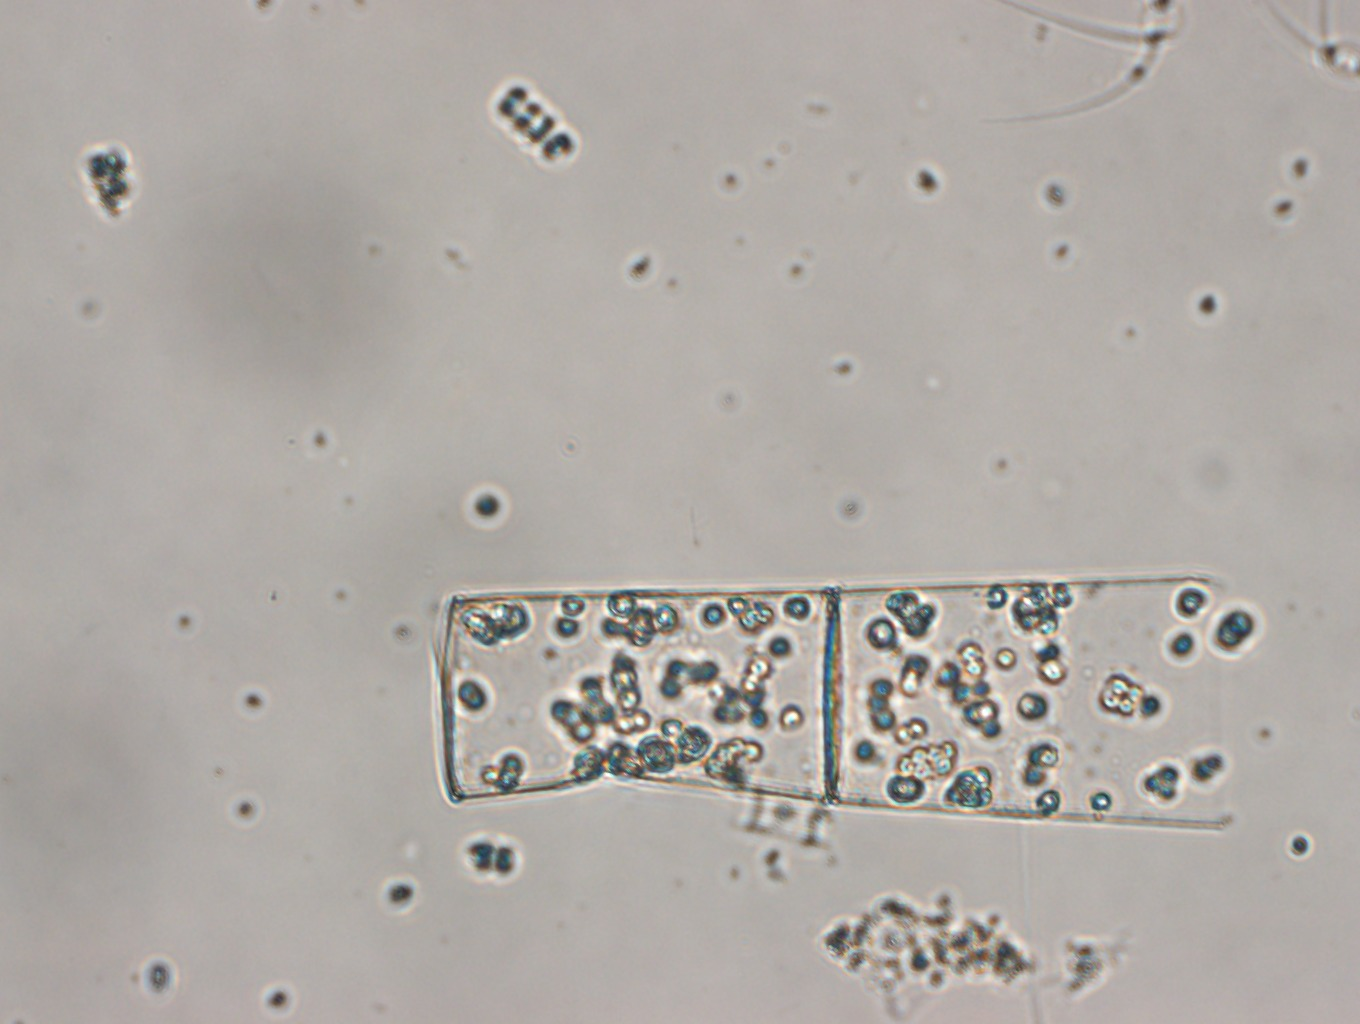guinardia flaccida: (432, 569, 1254, 839)
